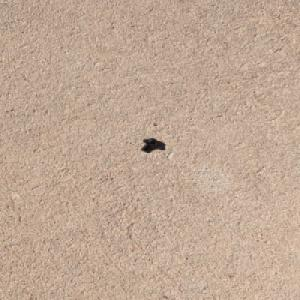BoltWasher: (139, 137, 159, 151)
